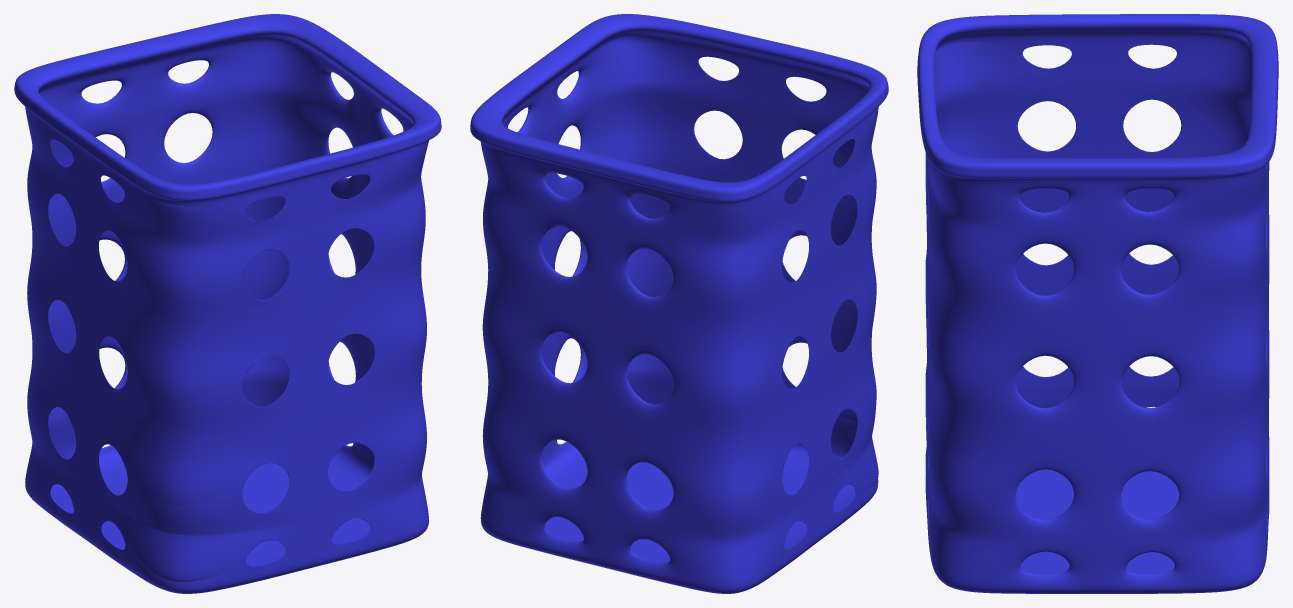
The model's file is clothes_basket.glb.
3 views of the same model, side by side, from view 1: azimuth 30°, elevation 25°; view 2: azimuth 150°, elevation 25°; view 3: azimuth 270°, elevation 25° (orthographic). The views are drawn at different scales.
Parts seen in each view (by area): view 1: Plane_2; view 2: Plane_2; view 3: Plane_2.
Part boxes in pixels (x1,y1,x2,y2): Plane_2: [14, 14, 441, 593]; Plane_2: [470, 14, 888, 593]; Plane_2: [917, 14, 1278, 593].
Size of the model in its own units: 1.79 by 2.39 by 1.78.
